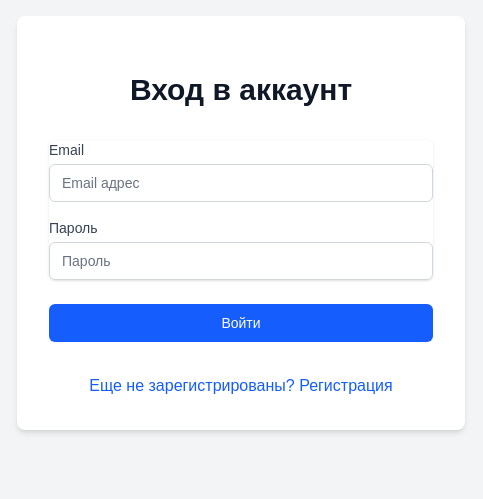
it: SignInContent › отображает ошибки валидации при неверном вводе
Click the button "Войти".
click(241, 323)  # box 49,304 -> 433,342
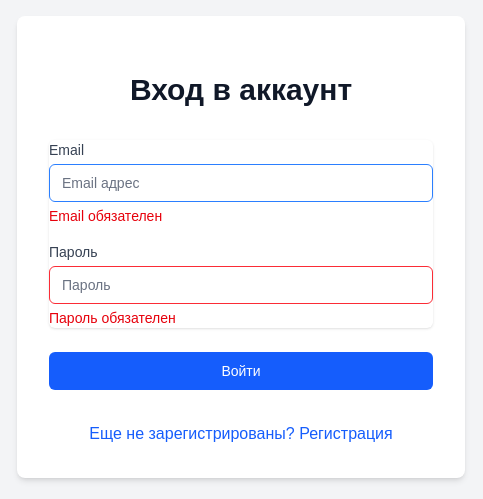
Result: the text "Email обязателен" is shown at 49,208 -> 162,224
Result: the text "Пароль обязателен" is shown at 49,310 -> 176,326
